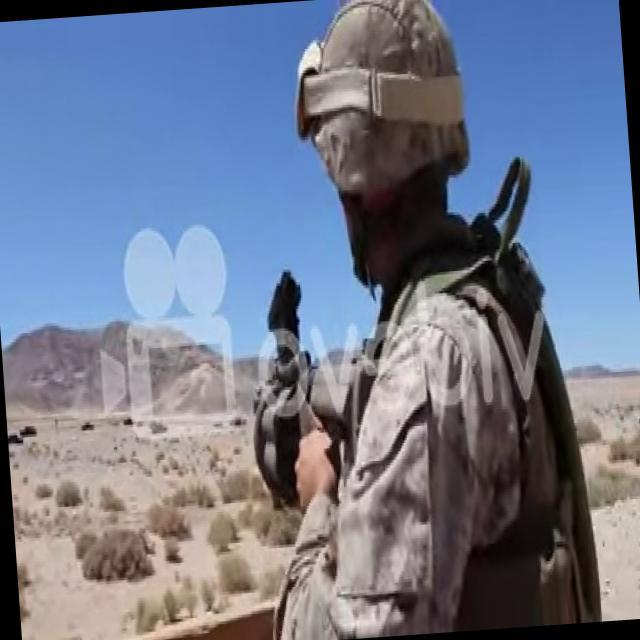rocket: (233, 266, 379, 507)
